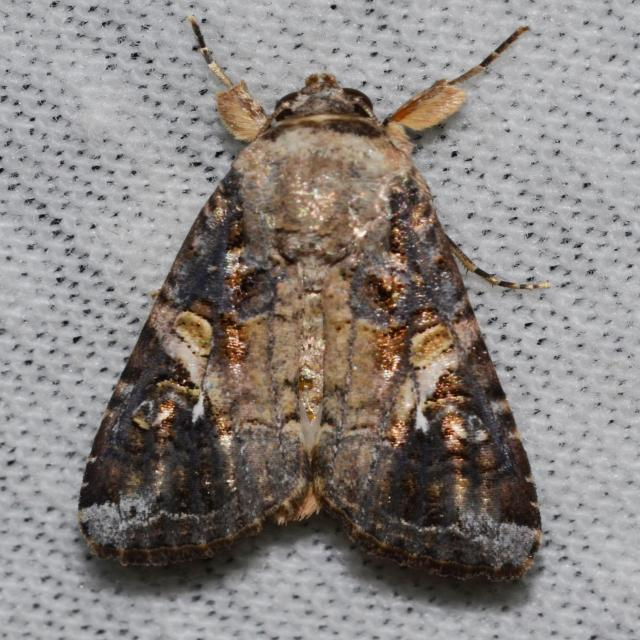armyworm: (95, 29, 544, 612)
